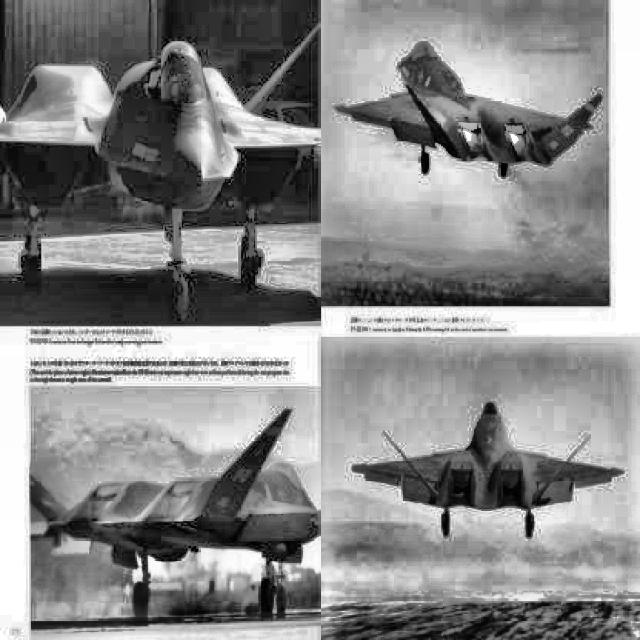YF23: (1, 0, 319, 326), (29, 408, 320, 614), (352, 399, 626, 538), (332, 41, 603, 178)
